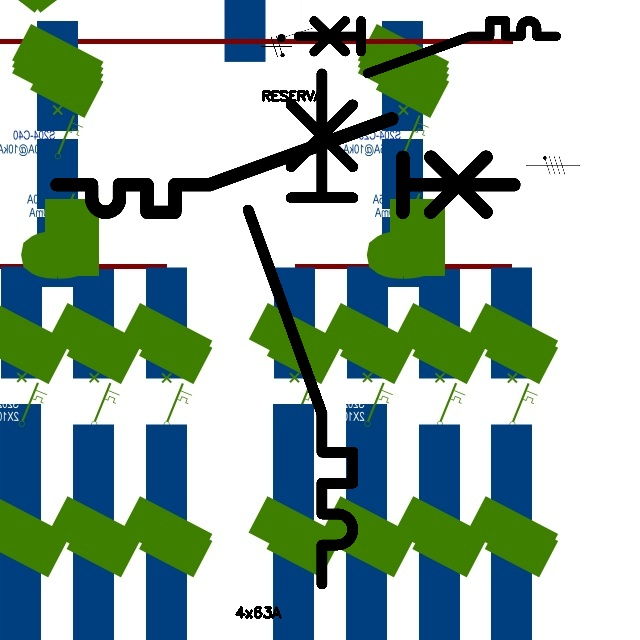interruptor_termomagnetico: (235, 60, 366, 596), (45, 107, 525, 224), (291, 14, 562, 80)
